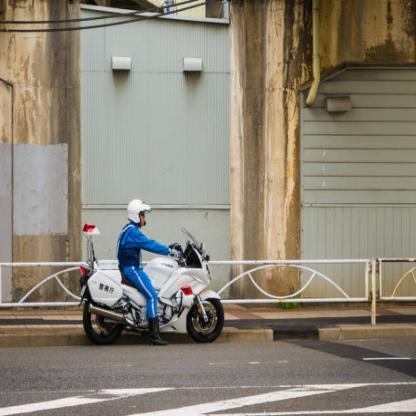Motorcycle: (73, 226, 226, 348)
